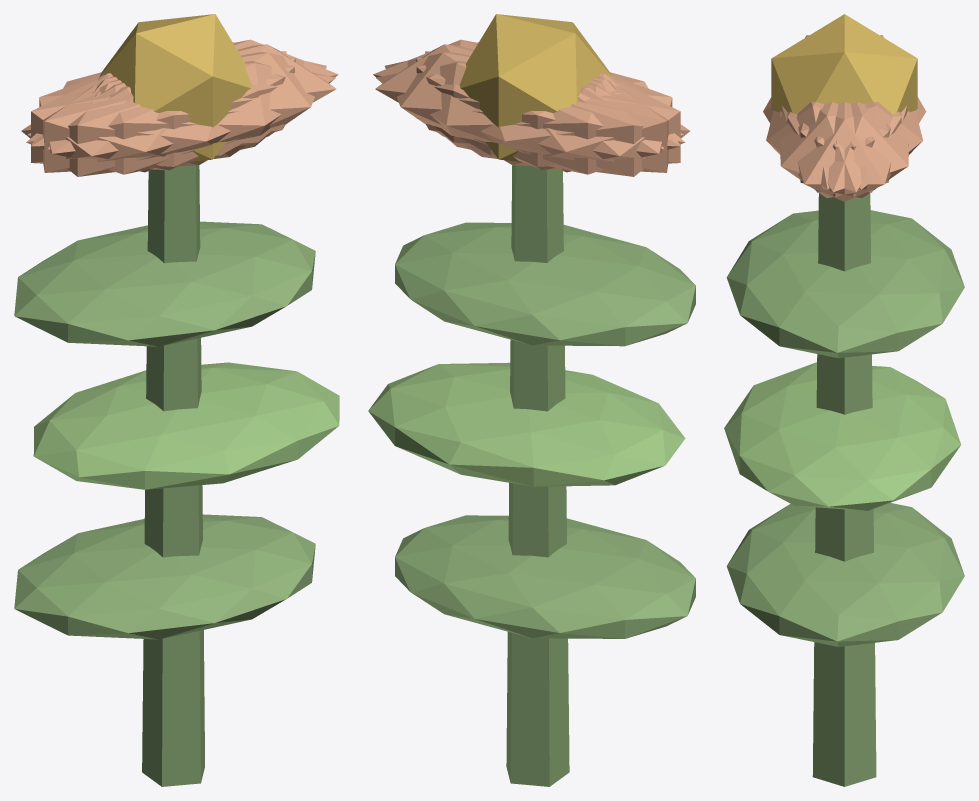
Rendered from coccoloba-uvifera.glb.
3 renders of one model, left to right at view 1: azimuth 30°, elevation 25°; view 2: azimuth 150°, elevation 25°; view 3: azimuth 270°, elevation 25°, orthographic.
Visible parts, largest first — view 1: leaf1, leaf2, leaf0, stem, center, petal1, petal6, petal2, petal5, petal7, petal0, petal4 (+2 smaller); view 2: leaf2, leaf1, leaf0, stem, center, petal8, petal3, petal7, petal4, petal2, petal0, petal5 (+2 smaller); view 3: leaf1, leaf2, leaf0, stem, center, petal0, petal5, petal4, petal8, petal1.
Boxes of the visible parts, x1=… form: leaf1: x1=33, y1=362, x2=339, y2=489; leaf2: x1=14, y1=221, x2=315, y2=346; leaf0: x1=14, y1=514, x2=315, y2=639; stem: x1=142, y1=165, x2=204, y2=786; center: x1=99, y1=14, x2=251, y2=161; petal1: x1=26, y1=61, x2=335, y2=174; petal6: x1=21, y1=74, x2=245, y2=176; petal2: x1=43, y1=51, x2=286, y2=172; petal5: x1=47, y1=52, x2=326, y2=166; petal7: x1=31, y1=57, x2=295, y2=170; petal0: x1=99, y1=44, x2=336, y2=155; petal4: x1=27, y1=39, x2=338, y2=146; leaf2: x1=395, y1=222, x2=695, y2=346; leaf1: x1=368, y1=362, x2=685, y2=486; leaf0: x1=395, y1=515, x2=695, y2=638; stem: x1=506, y1=165, x2=569, y2=786; center: x1=459, y1=14, x2=611, y2=161; petal8: x1=376, y1=61, x2=685, y2=174; petal3: x1=466, y1=75, x2=689, y2=176; petal7: x1=425, y1=51, x2=668, y2=172; petal4: x1=384, y1=52, x2=664, y2=166; petal2: x1=416, y1=57, x2=680, y2=170; petal0: x1=375, y1=44, x2=612, y2=155; petal5: x1=373, y1=39, x2=683, y2=146; leaf1: x1=724, y1=362, x2=961, y2=510; leaf2: x1=726, y1=210, x2=964, y2=358; leaf0: x1=726, y1=503, x2=964, y2=646; stem: x1=812, y1=193, x2=876, y2=786; center: x1=771, y1=14, x2=917, y2=113; petal0: x1=782, y1=102, x2=907, y2=201; petal5: x1=780, y1=102, x2=901, y2=198; petal4: x1=787, y1=102, x2=909, y2=198; petal8: x1=798, y1=102, x2=922, y2=189; petal1: x1=766, y1=102, x2=890, y2=189.
Bounding box in the file's own units: 0.1496 × 0.3417 × 0.1008.
